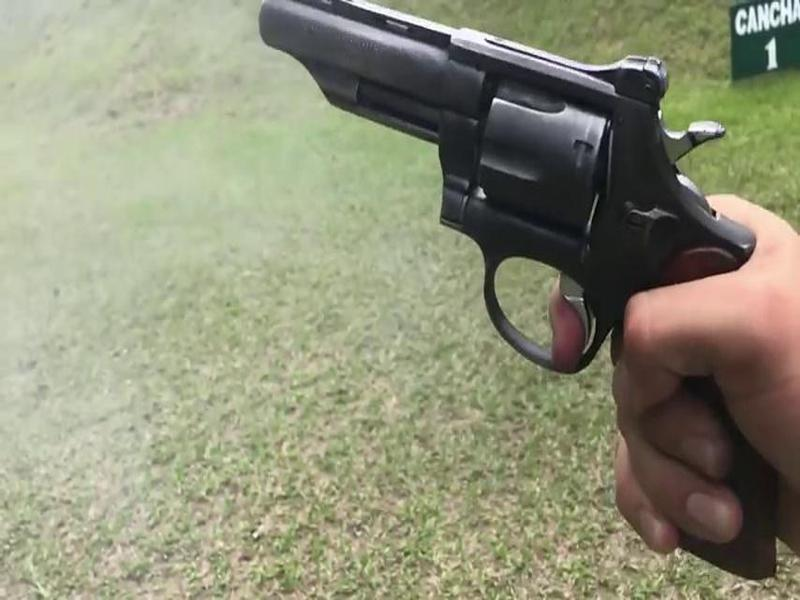Revolver: (267, 1, 791, 399)
